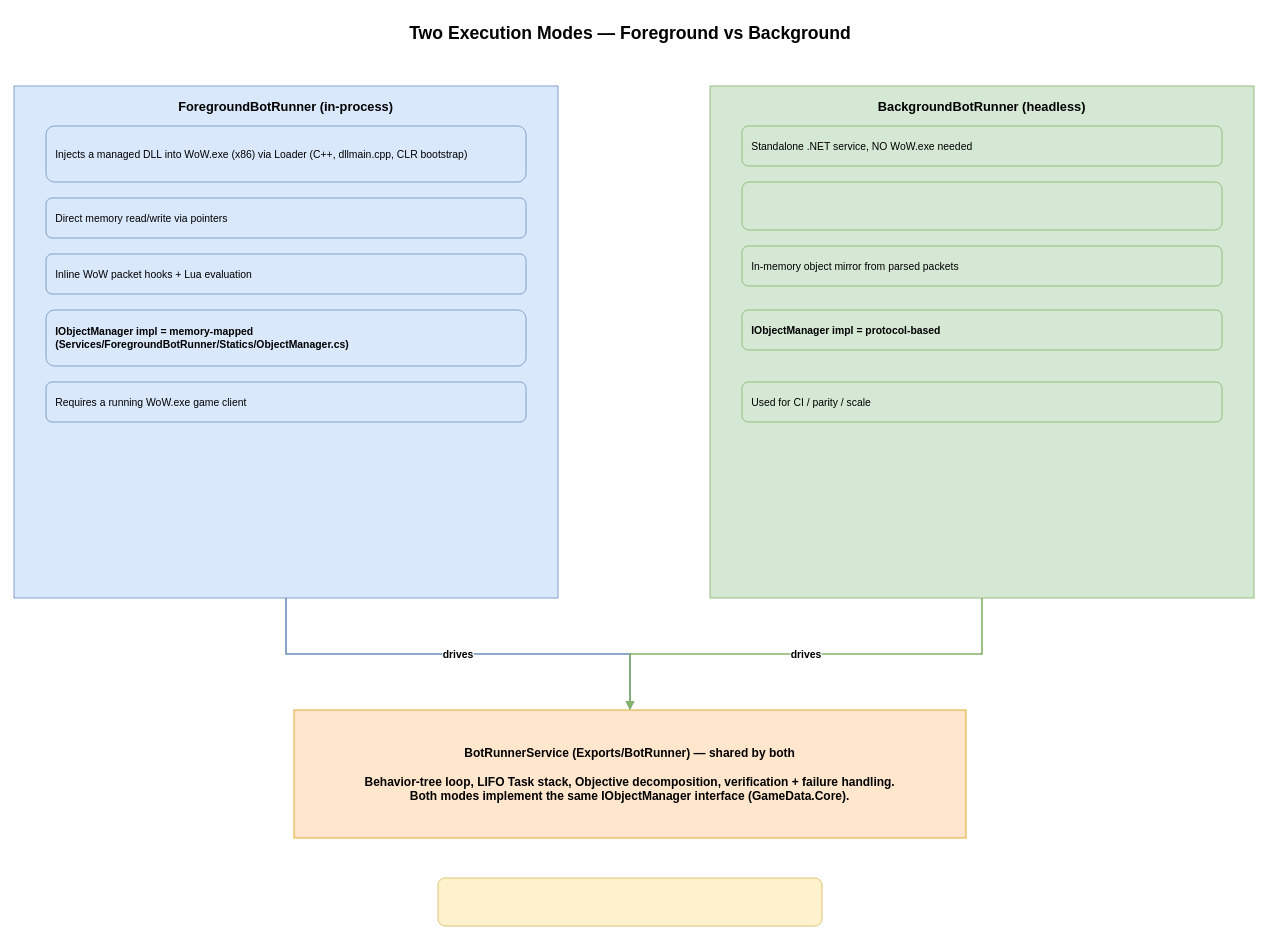
Image size: 1268x940. Some labels were removed from this diagram. Here are the shapes that lost their labels. From the top down, the centre of each, then its label:
the point at 981,205: Pure WoW-protocol emulation (packets/opcodes) via WoWSharpClient
the point at 629,901: Same Tasks/Actions run in both modes; only the IObjectManager backend differs.
